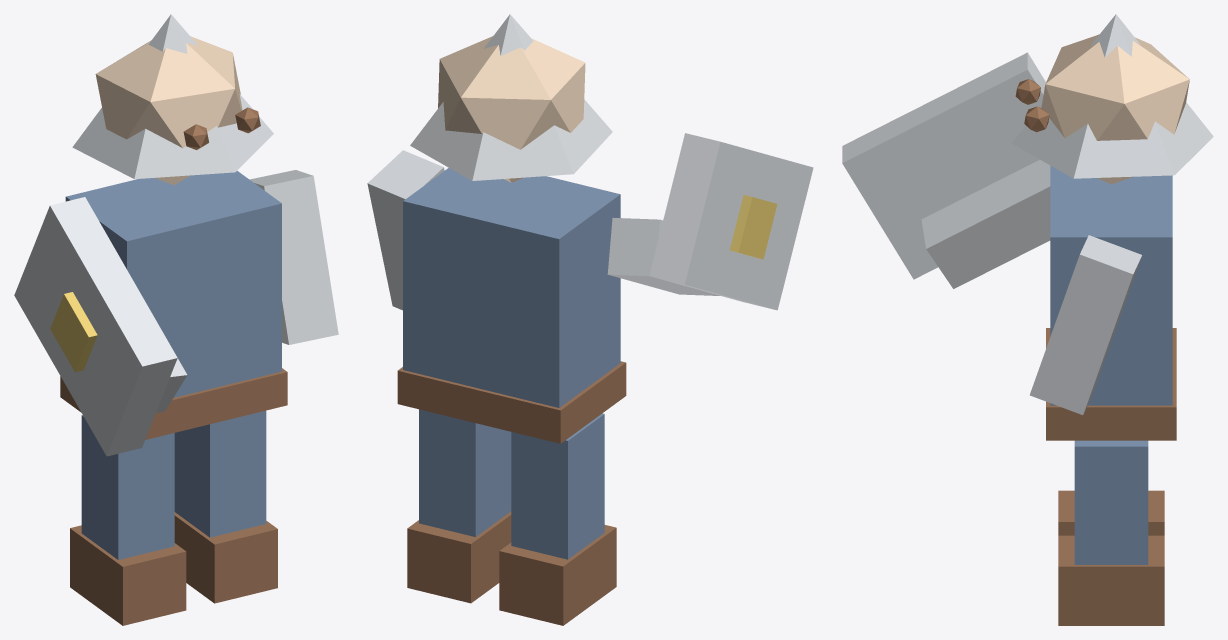
The model's file is npcpose_guard_idle_00.glb.
3 views of the same model, side by side, from view 1: azimuth 30°, elevation 25°; view 2: azimuth 150°, elevation 25°; view 3: azimuth 270°, elevation 25° (orthographic).
Visible parts, largest first — view 1: npcpose; view 2: npcpose; view 3: npcpose.
Boxes of the visible parts, x1,y1,x2,y2 form: npcpose: [14, 14, 338, 625]; npcpose: [367, 14, 813, 625]; npcpose: [842, 14, 1213, 625].
Bounding box in the file's own units: 0.8715 × 1.55 × 0.9099.
